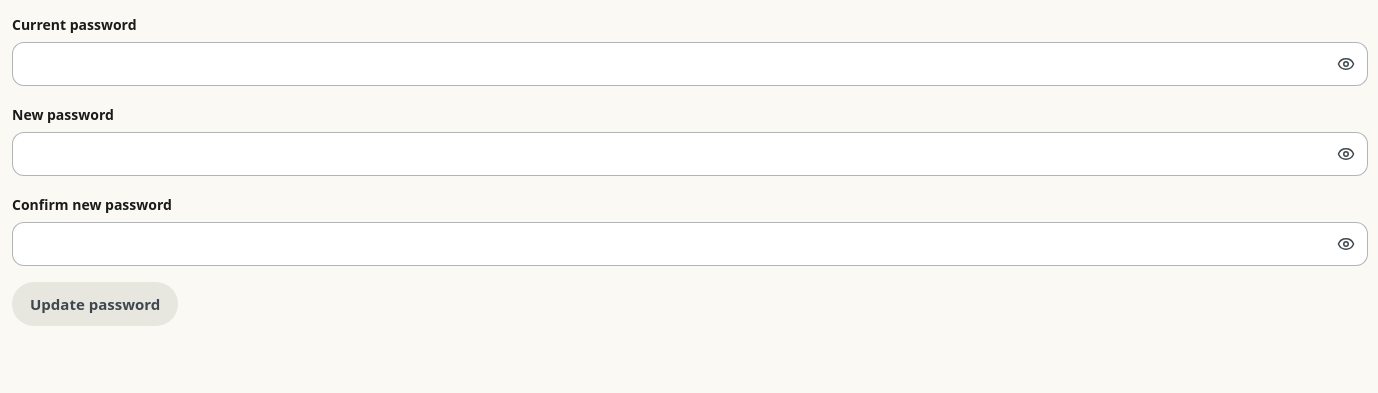
Scenario: ChangePasswordForm › renders field errors from the response body next to each field
Type "wrong-password" into the password field labelled "Current password" at coordinates (690, 64), box [12, 42, 1368, 86]
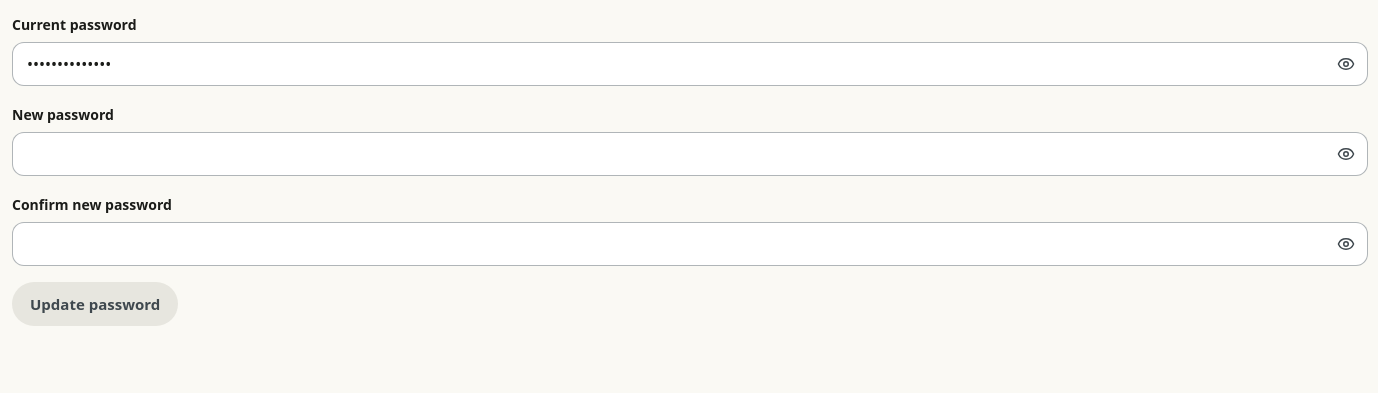
Type "short" into the password field labelled "New password" at coordinates (690, 154), box [12, 132, 1368, 176]
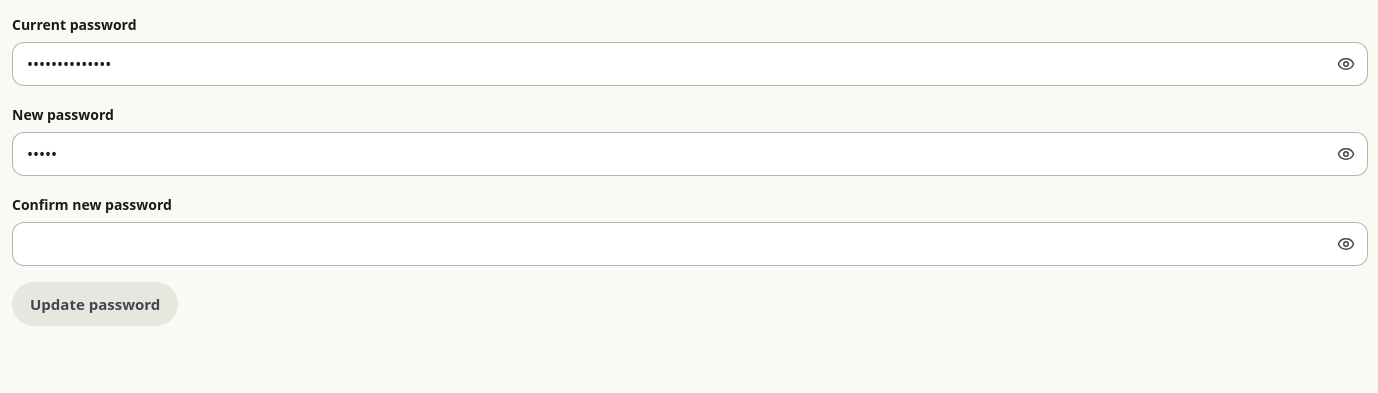
Type "short" into the password field labelled "Confirm new password" at coordinates (690, 244), box [12, 222, 1368, 266]
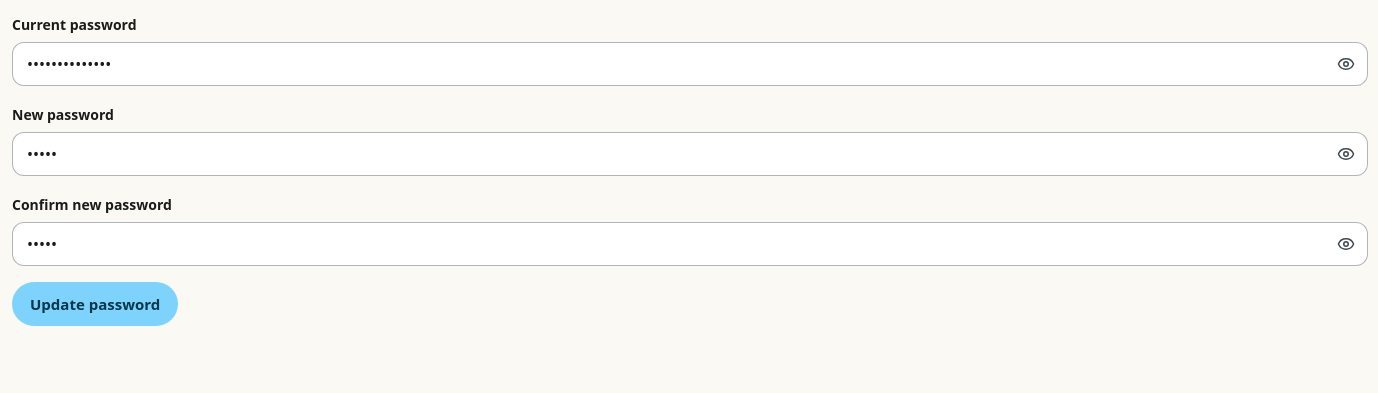
Click the button named "Update password" at coordinates (95, 304), box [12, 282, 178, 326]
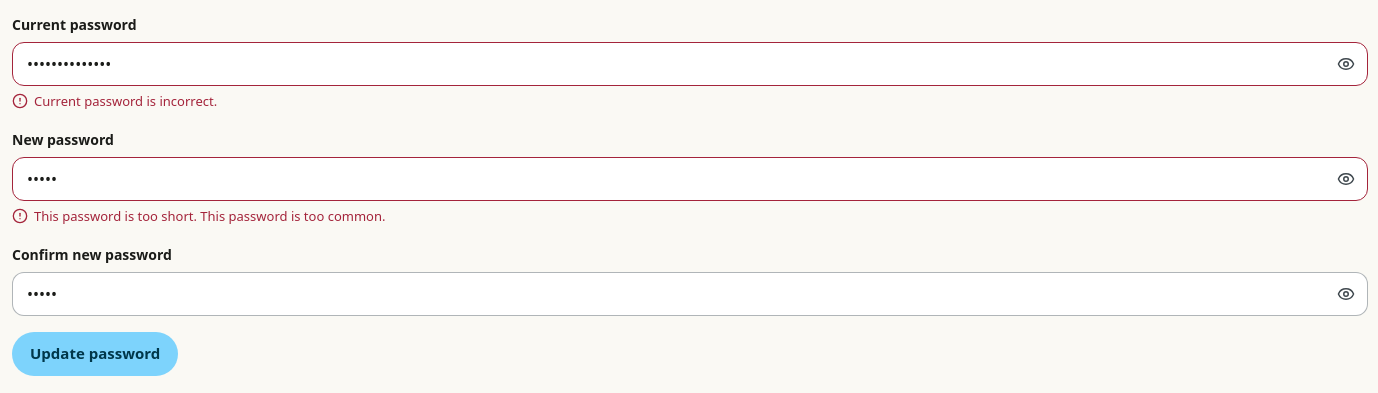
Now the messages read "Current password is incorrect.", "This password is too short. This password is too common.", in this order, box [34, 92, 217, 110]; [34, 207, 386, 225]
